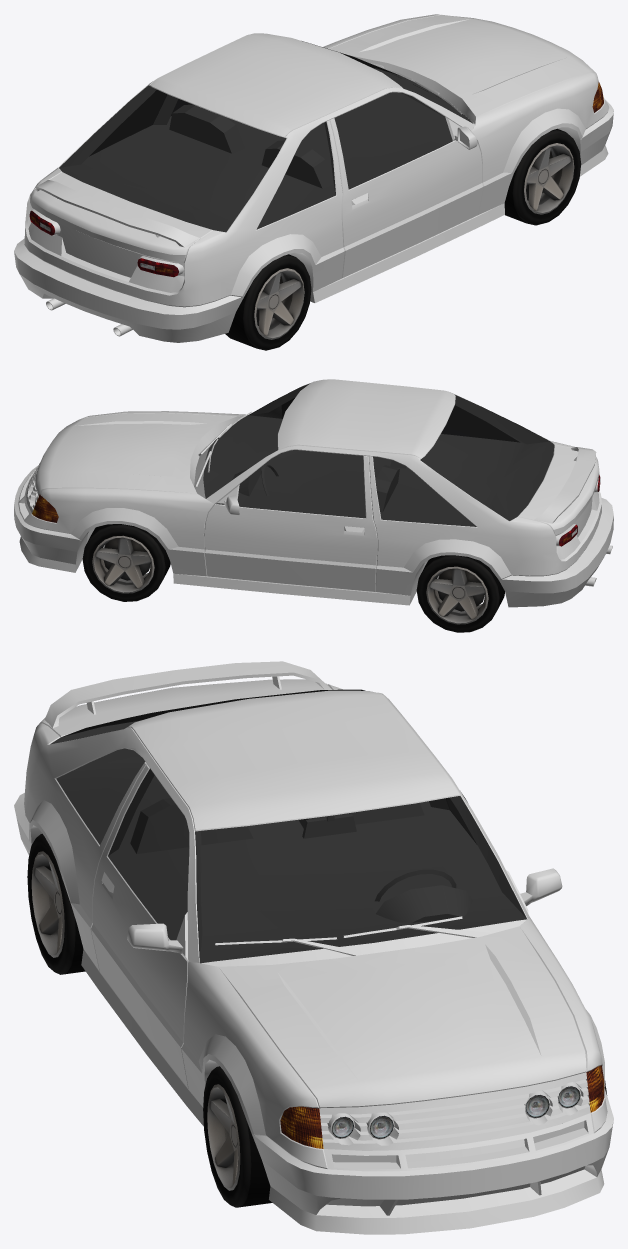
Rendered from car2.glb.
The picture shows the model from 3 angles, top to bottom: view 1: azimuth 30°, elevation 25°; view 2: azimuth 150°, elevation 25°; view 3: azimuth 270°, elevation 25°; orthographic projection. The views are drawn at different scales.
Parts seen in each view (by area): view 1: Coupe Body, Wheel_F003_Wheel_0, Wheel_F002; view 2: Coupe Body, Wheel_F001, Wheel_F_Wheel_0; view 3: Coupe Body, Wheel_F002, Wheel_F003_Wheel_0.
Part boxes in pixels (bbox=[...]): Coupe Body: bbox=[14, 14, 613, 342]; Wheel_F003_Wheel_0: bbox=[225, 254, 311, 350]; Wheel_F002: bbox=[504, 128, 581, 225]; Coupe Body: bbox=[14, 379, 613, 607]; Wheel_F001: bbox=[416, 555, 504, 632]; Wheel_F_Wheel_0: bbox=[82, 524, 170, 601]; Coupe Body: bbox=[14, 661, 613, 1234]; Wheel_F002: bbox=[203, 1066, 272, 1207]; Wheel_F003_Wheel_0: bbox=[27, 833, 85, 974].
Size of the model in its own units: 4.2 by 1.28 by 2.5.
4 materials, 2 textured.
